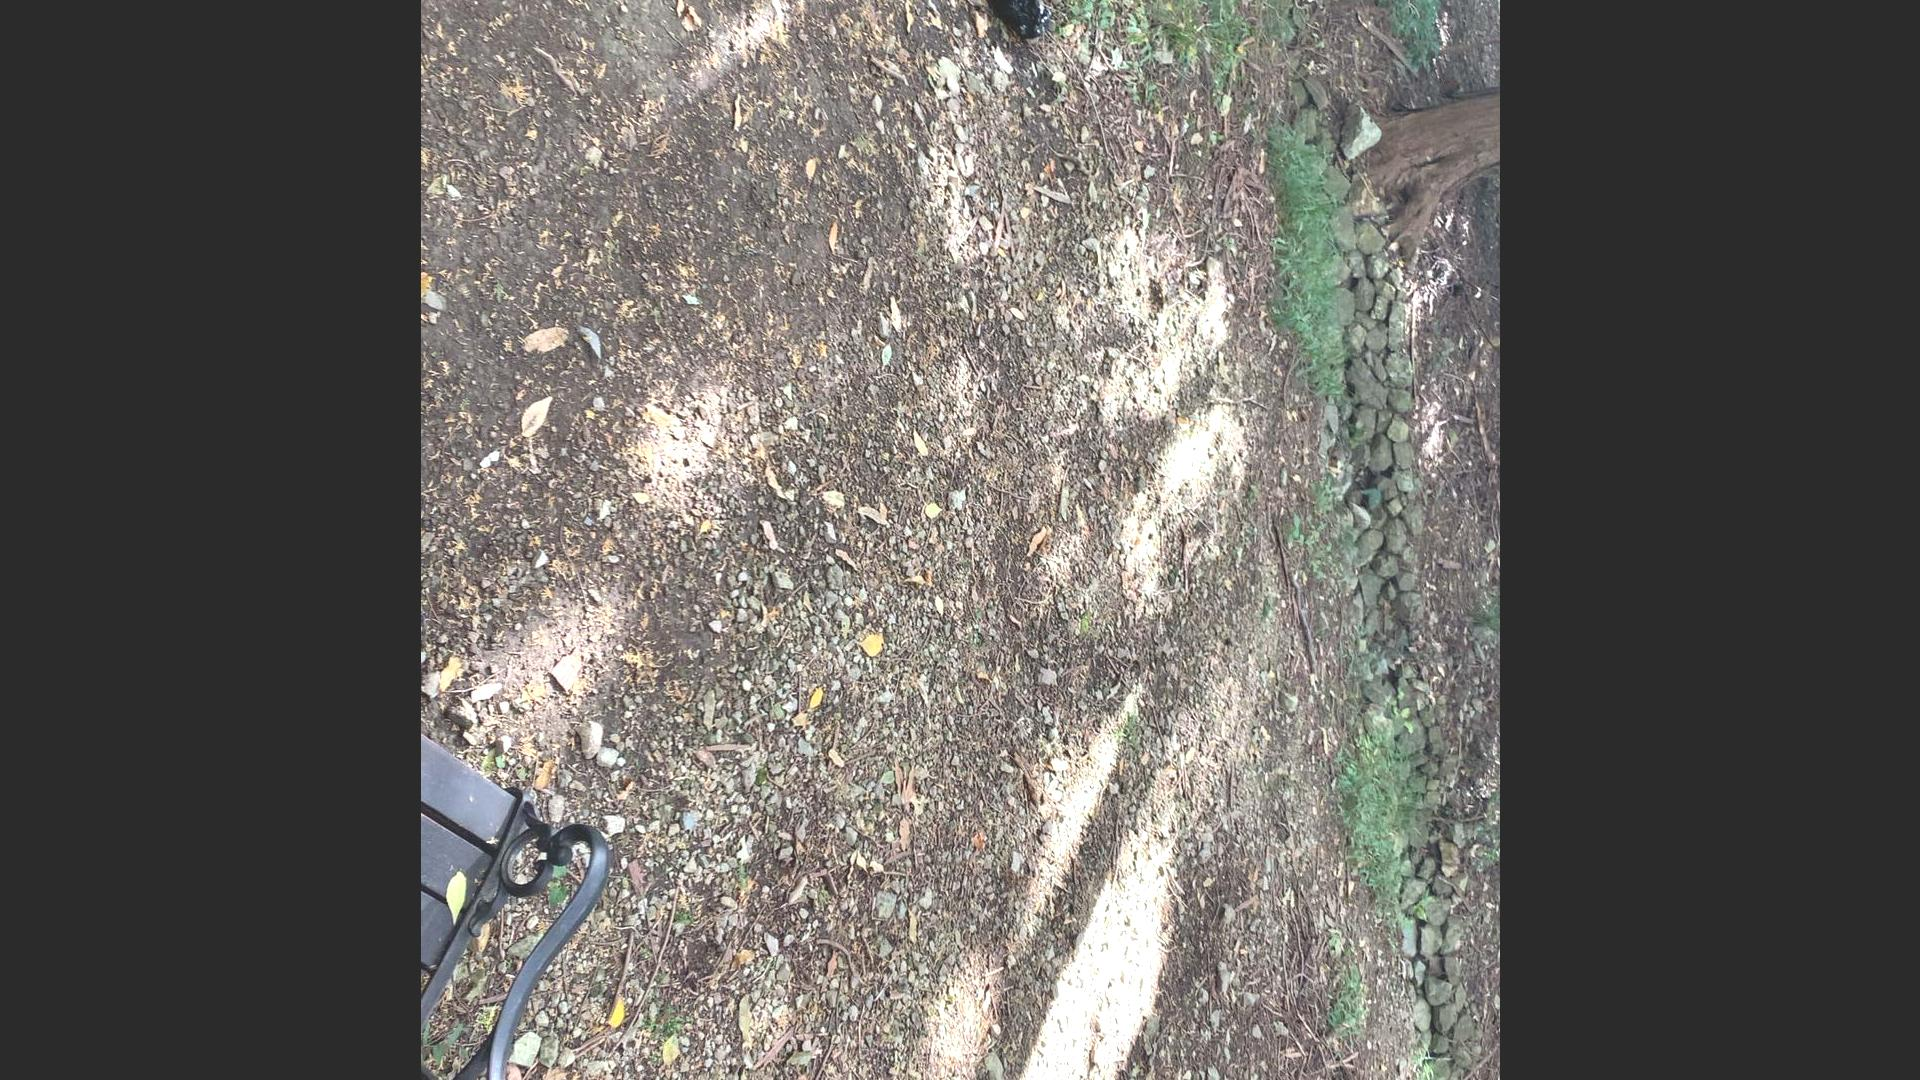black_bag: (949, 0, 1058, 51)
